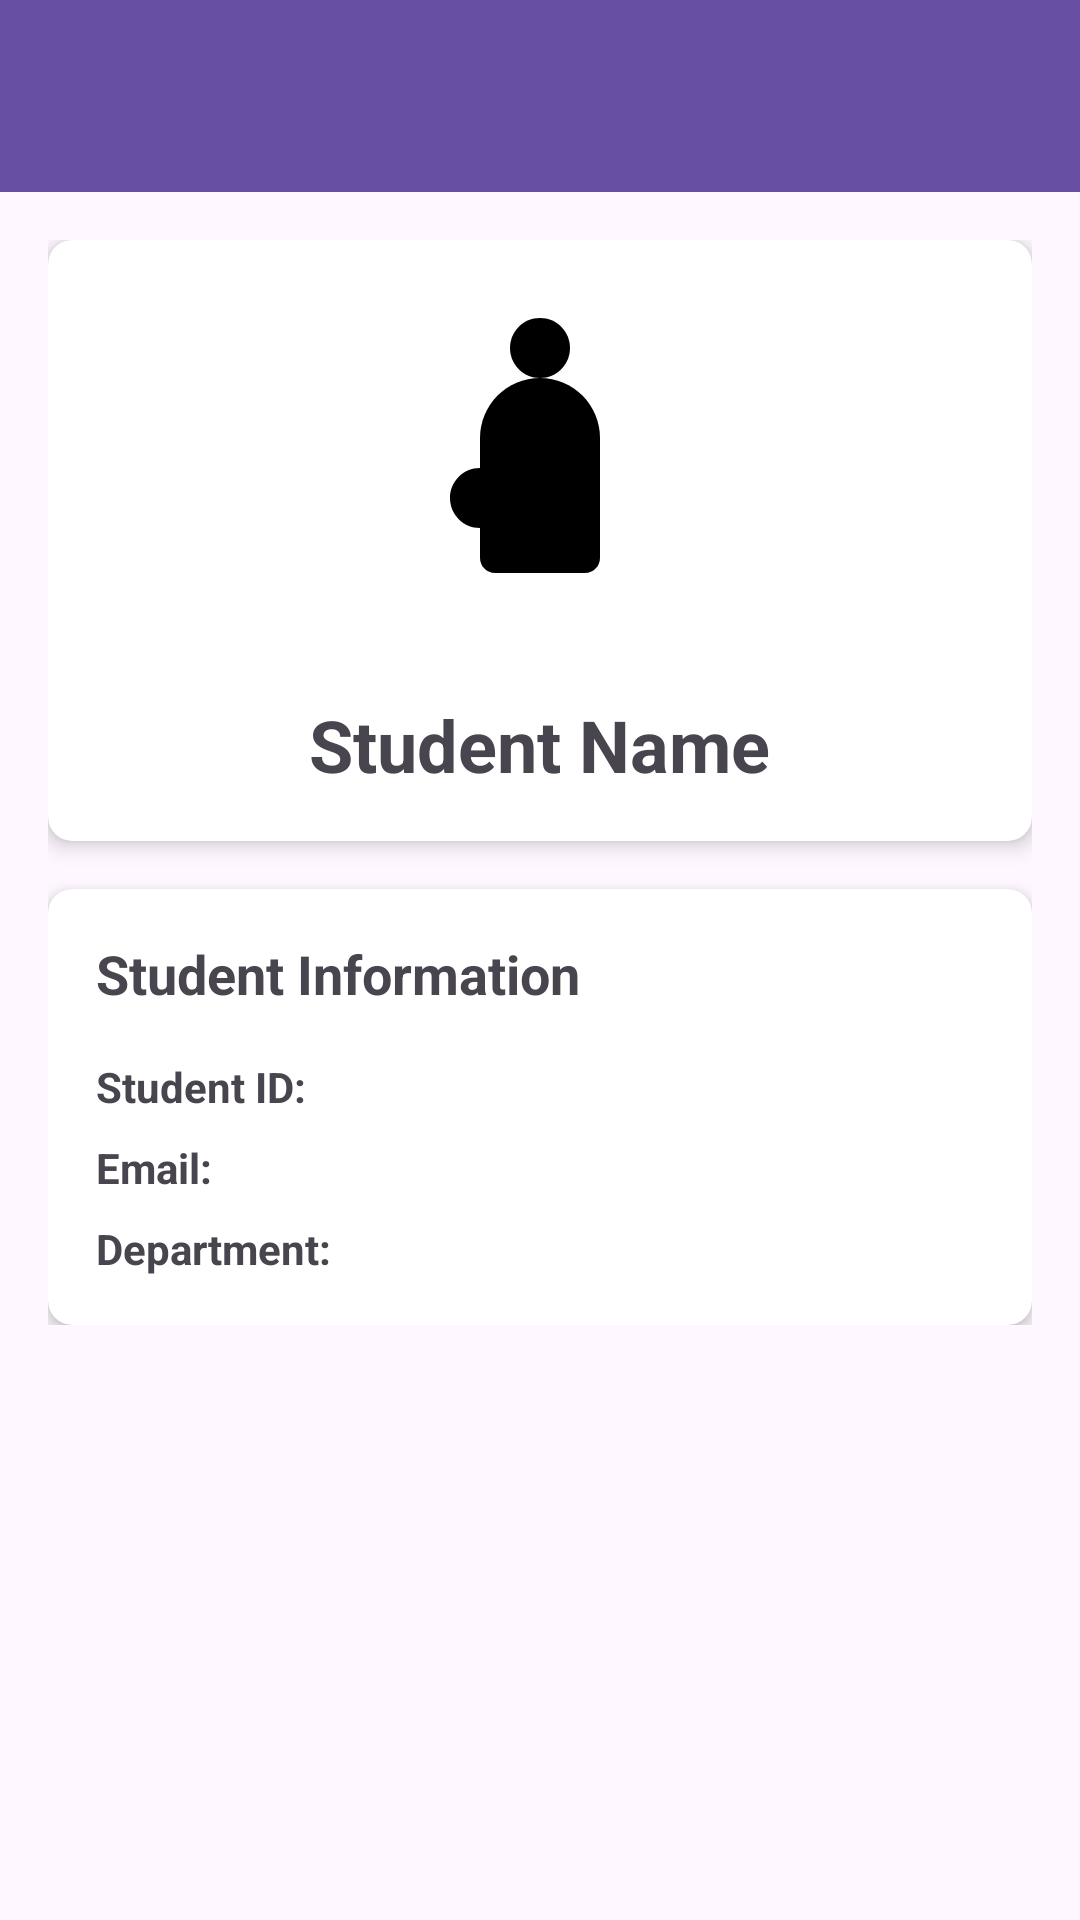

Icons on this 1080×1920 Android screen, each with the point to tap as (x=x, y=y):
person: (x=525, y=445)
